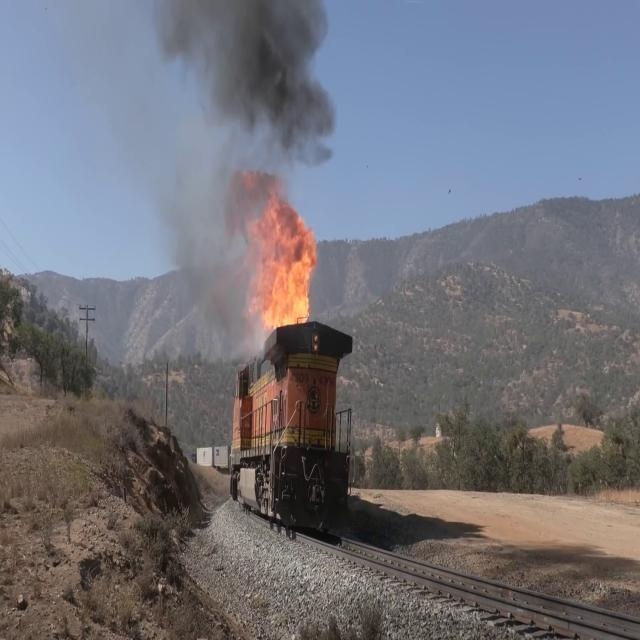Fire: (239, 189, 322, 323)
Smoke: (166, 0, 362, 165)
